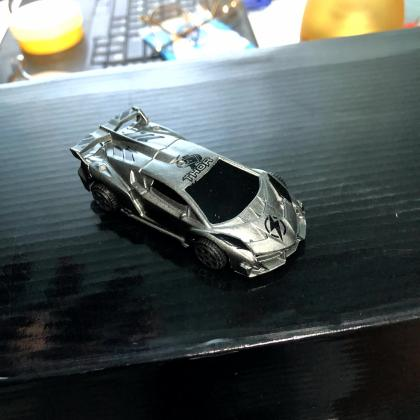Car: (71, 108, 308, 280)
